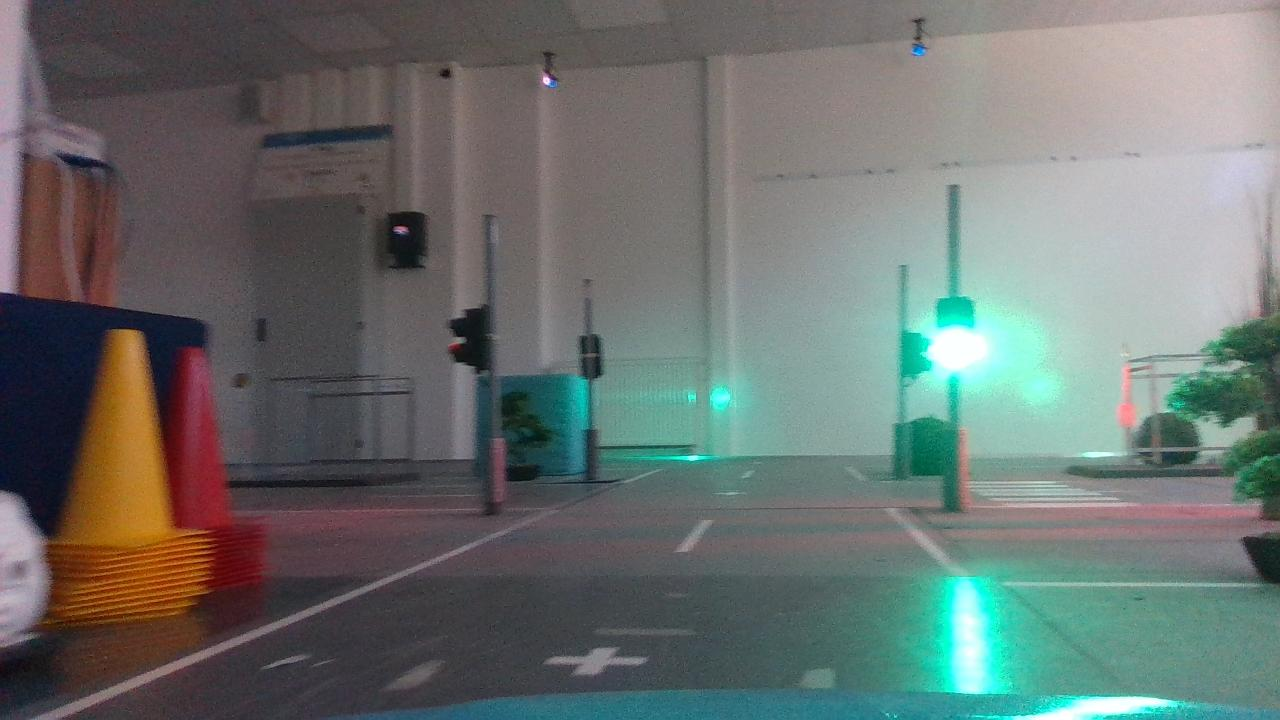traffic_light_green: (922, 288, 997, 392)
